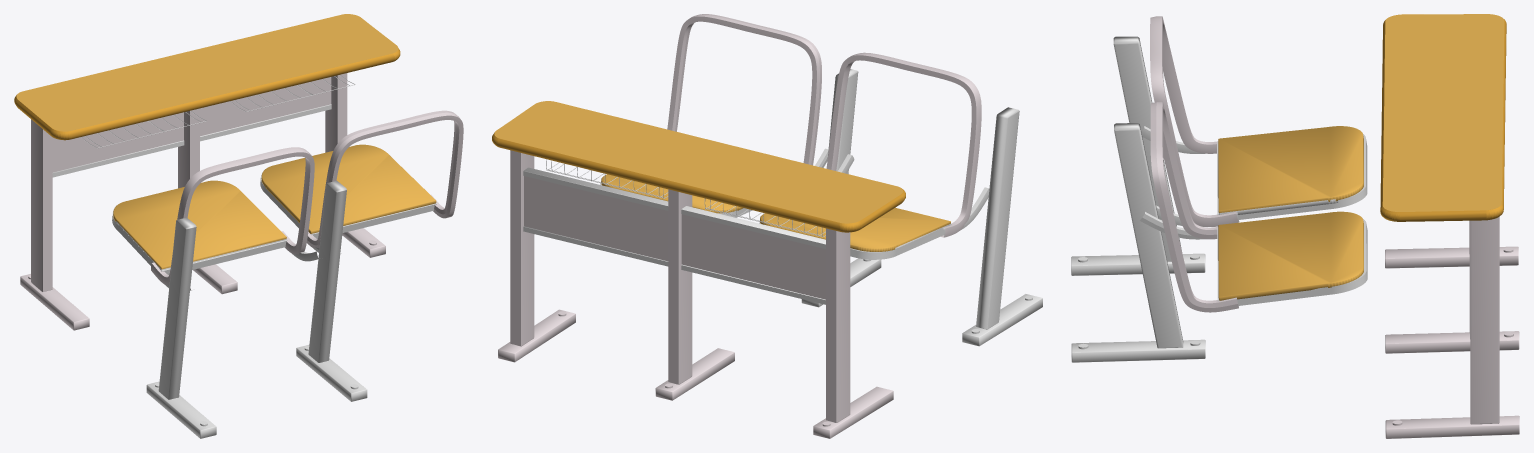
Rendered from desk.glb.
3 renders of one model, left to right at view 1: azimuth 30°, elevation 25°; view 2: azimuth 150°, elevation 25°; view 3: azimuth 270°, elevation 25°, orthographic. The views are drawn at different scales.
Visible parts, largest first — view 1: 3DXY_geometry_055_26, 3DXY_geometry_045_26, 3DXY_geometry_044_26, 3DXY_geometry_019_26, 3DXY_geometry_023_26, 3DXY_geometry_024_26, 3DXY_geometry_022_26, 3DXY_geometry_053_26, 3DXY_geometry_021_26, 3DXY_geometry_037_26, 3DXY_geometry_048_26, 3DXY_geometry_018_26 (+9 smaller); view 2: 3DXY_geometry_055_26, 3DXY_geometry_022_26, 3DXY_geometry_023_26, 3DXY_geometry_024_26, 3DXY_geometry_021_26, 3DXY_geometry_048_26, 3DXY_geometry_009_28, 3DXY_geometry_006_28, 3DXY_geometry_053_26, 3DXY_geometry_037_26, 3DXY_geometry_045_26, 3DXY_geometry_008_28 (+9 smaller); view 3: 3DXY_geometry_055_26, 3DXY_geometry_044_26, 3DXY_geometry_045_26, 3DXY_geometry_009_28, 3DXY_geometry_019_26, 3DXY_geometry_037_26, 3DXY_geometry_048_26, 3DXY_geometry_024_26, 3DXY_geometry_015_26, 3DXY_geometry_053_26, 3DXY_geometry_012_26, 3DXY_geometry_007_28 (+5 smaller).
Boxes of the visible parts, x1,y1,x2,y2 form: 3DXY_geometry_055_26: [16, 14, 398, 131]; 3DXY_geometry_045_26: [113, 180, 286, 269]; 3DXY_geometry_044_26: [261, 144, 436, 233]; 3DXY_geometry_019_26: [308, 180, 346, 362]; 3DXY_geometry_023_26: [52, 112, 183, 172]; 3DXY_geometry_024_26: [158, 217, 196, 399]; 3DXY_geometry_022_26: [200, 77, 331, 136]; 3DXY_geometry_053_26: [14, 17, 400, 140]; 3DXY_geometry_021_26: [31, 119, 52, 291]; 3DXY_geometry_037_26: [307, 110, 463, 248]; 3DXY_geometry_048_26: [151, 147, 314, 285]; 3DXY_geometry_018_26: [52, 104, 331, 177]; 3DXY_geometry_055_26: [494, 101, 902, 223]; 3DXY_geometry_022_26: [524, 176, 668, 261]; 3DXY_geometry_023_26: [681, 214, 825, 299]; 3DXY_geometry_024_26: [976, 107, 1019, 329]; 3DXY_geometry_021_26: [826, 228, 850, 422]; 3DXY_geometry_048_26: [826, 52, 981, 237]; 3DXY_geometry_009_28: [510, 150, 534, 346]; 3DXY_geometry_006_28: [668, 189, 692, 384]; 3DXY_geometry_053_26: [492, 130, 905, 232]; 3DXY_geometry_037_26: [667, 14, 821, 165]; 3DXY_geometry_045_26: [760, 207, 950, 251]; 3DXY_geometry_008_28: [523, 167, 825, 248]; 3DXY_geometry_055_26: [1383, 14, 1504, 211]; 3DXY_geometry_044_26: [1218, 211, 1363, 300]; 3DXY_geometry_045_26: [1218, 126, 1363, 212]; 3DXY_geometry_009_28: [1470, 216, 1499, 424]; 3DXY_geometry_019_26: [1114, 123, 1183, 348]; 3DXY_geometry_037_26: [1150, 101, 1238, 312]; 3DXY_geometry_048_26: [1150, 16, 1238, 226]; 3DXY_geometry_024_26: [1113, 36, 1181, 261]; 3DXY_geometry_015_26: [1071, 339, 1205, 362]; 3DXY_geometry_053_26: [1380, 14, 1506, 221]; 3DXY_geometry_012_26: [1385, 415, 1519, 438]; 3DXY_geometry_007_28: [1385, 331, 1519, 353].
Bounding box in the file's own units: 0.6638 × 0.4264 × 0.6312.
